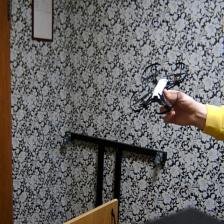drone: (127, 58, 189, 122)
